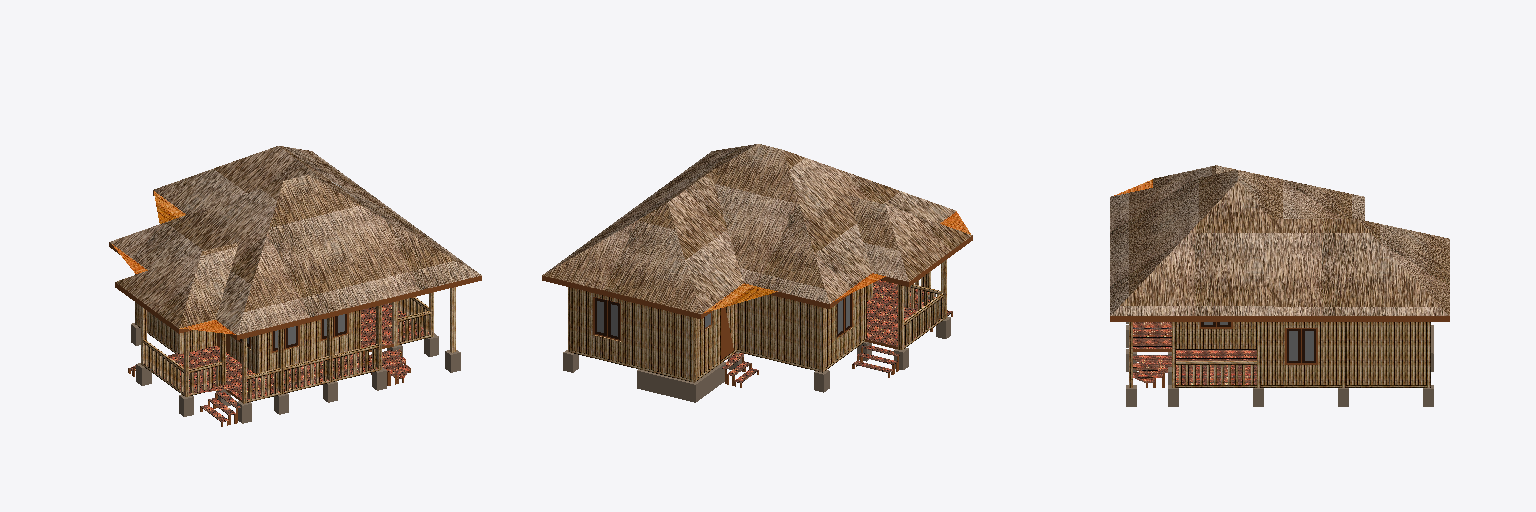
3 renders of one model, left to right at view 1: azimuth 30°, elevation 25°; view 2: azimuth 150°, elevation 25°; view 3: azimuth 270°, elevation 25°, orthographic.
Visible parts, largest first — view 1: Mesh208 Union1 Group1 Model, Mesh144 Difference23 Group1 Model, Mesh220 Difference35 Group1 Model, Mesh165 Difference26 Group1 Model, Mesh138 Difference22 Group1 Model, Mesh190 Difference29 Group1 Model, Mesh214 Difference34 Group1 Model; view 2: Mesh208 Union1 Group1 Model, Mesh57 Group51 Group1 Model, Mesh206 Difference32 Group1 Model, Mesh51 Group45 Group1 Model, Mesh144 Difference23 Group1 Model, Mesh178 Union Group1 Model, Mesh190 Difference29 Group1 Model, Mesh30 Difference2 Group1 Model; view 3: Mesh208 Union1 Group1 Model, Mesh69 Group63 Group1 Model, Mesh180 Difference28 Group1 Model, Mesh220 Difference35 Group1 Model, Mesh26 Difference1 Group1 Model, Mesh144 Difference23 Group1 Model.
Boxes of the visible parts, x1,y1,x2,y2 form: Mesh208 Union1 Group1 Model: [109, 146, 481, 339]; Mesh144 Difference23 Group1 Model: [143, 346, 378, 402]; Mesh220 Difference35 Group1 Model: [361, 303, 430, 353]; Mesh165 Difference26 Group1 Model: [312, 311, 356, 359]; Mesh138 Difference22 Group1 Model: [263, 323, 307, 371]; Mesh190 Difference29 Group1 Model: [138, 304, 177, 352]; Mesh214 Difference34 Group1 Model: [230, 336, 256, 373]; Mesh208 Union1 Group1 Model: [542, 144, 972, 318]; Mesh57 Group51 Group1 Model: [737, 295, 818, 368]; Mesh206 Difference32 Group1 Model: [572, 288, 641, 366]; Mesh51 Group45 Group1 Model: [645, 306, 690, 378]; Mesh144 Difference23 Group1 Model: [865, 280, 943, 348]; Mesh178 Union Group1 Model: [637, 362, 725, 402]; Mesh190 Difference29 Group1 Model: [825, 287, 864, 367]; Mesh30 Difference2 Group1 Model: [697, 309, 718, 377]; Mesh208 Union1 Group1 Model: [1110, 165, 1449, 321]; Mesh69 Group63 Group1 Model: [1346, 322, 1426, 384]; Mesh180 Difference28 Group1 Model: [1261, 322, 1341, 384]; Mesh220 Difference35 Group1 Model: [1176, 349, 1256, 387]; Mesh26 Difference1 Group1 Model: [1176, 322, 1256, 348]; Mesh144 Difference23 Group1 Model: [1133, 322, 1171, 351].
Bounding box in the file's own units: 11.5 × 6.95 × 12.
15 materials, 5 textured.